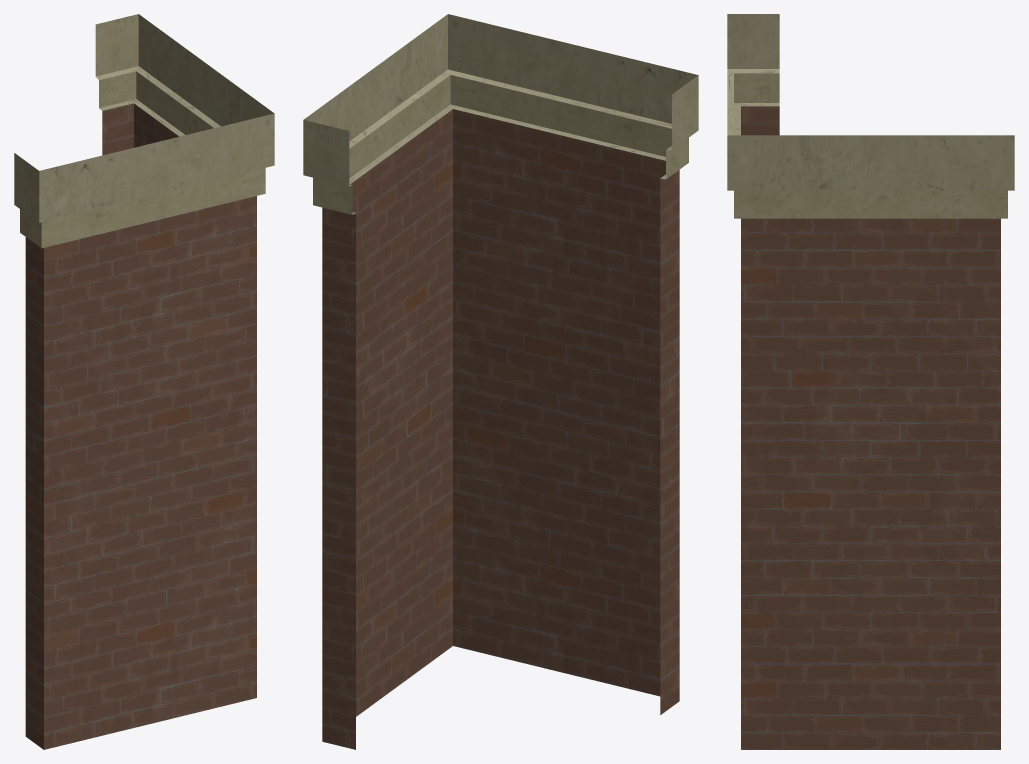
The model's file is Brick_CornerColumn_Top.glb.
3 renders of one model, left to right at view 1: azimuth 30°, elevation 25°; view 2: azimuth 150°, elevation 25°; view 3: azimuth 270°, elevation 25°, orthographic. The views are drawn at different scales.
Parts seen in each view (by area): view 1: Brick_CornerColumn_Top; view 2: Brick_CornerColumn_Top; view 3: Brick_CornerColumn_Top.
Boxes of the visible parts, x1,y1,x2,y2 form: Brick_CornerColumn_Top: (14, 14, 274, 749); Brick_CornerColumn_Top: (303, 14, 698, 749); Brick_CornerColumn_Top: (727, 14, 1014, 749).
Bounding box in the file's own units: 1.26 × 3 × 1.26.
2 materials, 2 textured.
